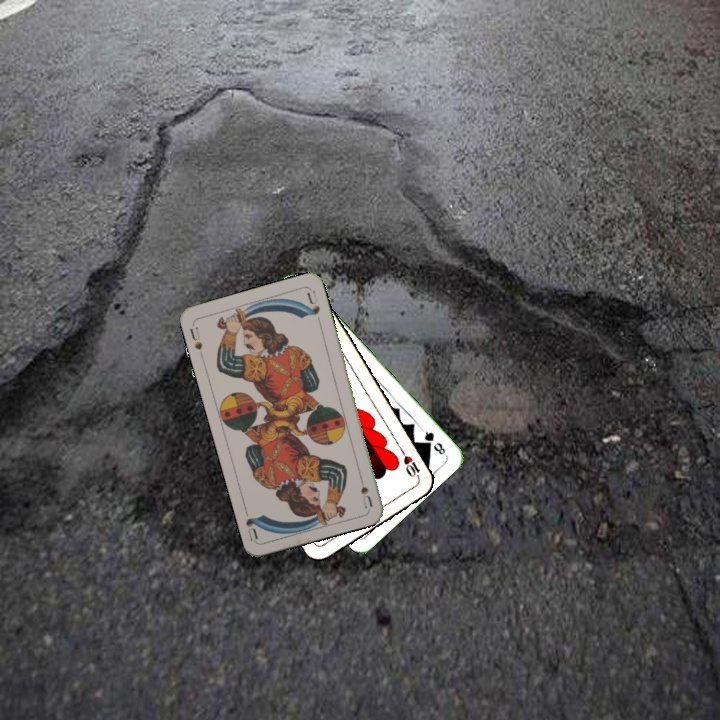G8: (417, 425, 448, 458)
H10: (397, 446, 423, 483)
SU: (355, 469, 375, 510), (186, 323, 205, 352)
